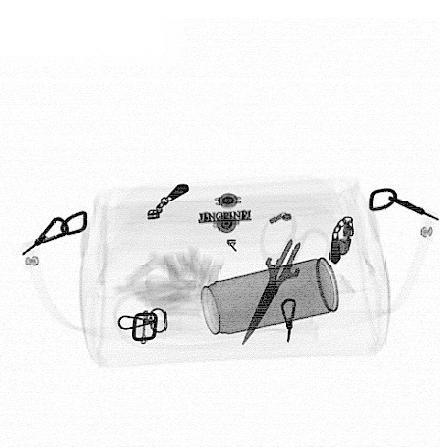Scissors: (237, 207, 334, 351)
